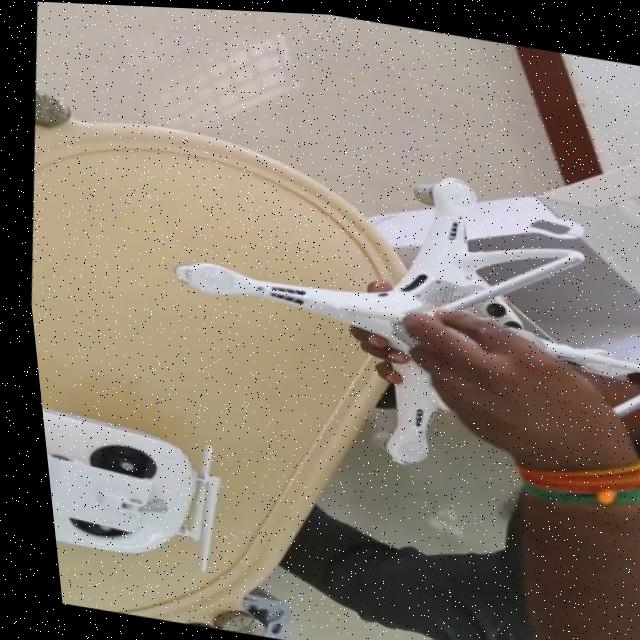drones: (118, 61, 640, 500)
